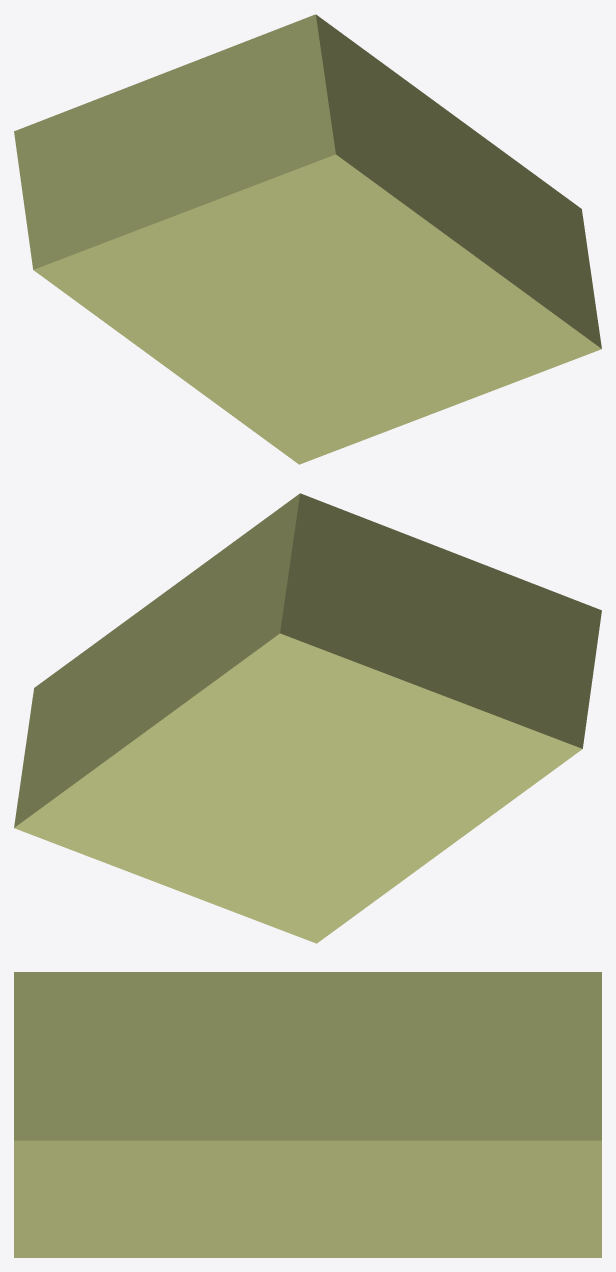
3 renders of one model, top to bottom at view 1: azimuth 30°, elevation 25°; view 2: azimuth 150°, elevation 25°; view 3: azimuth 270°, elevation 25°, orthographic. The views are drawn at different scales.
Parts seen in each view (by area): view 1: 0_1_3_2_1_1_1_3_3_1_2; view 2: 0_1_3_2_1_1_1_3_3_1_2; view 3: 0_1_3_2_1_1_1_3_3_1_2.
Boxes of the visible parts, bbox=[...] form: 0_1_3_2_1_1_1_3_3_1_2: bbox=[14, 14, 601, 464]; 0_1_3_2_1_1_1_3_3_1_2: bbox=[14, 493, 601, 943]; 0_1_3_2_1_1_1_3_3_1_2: bbox=[14, 972, 601, 1257].
Size of the model in its own units: 6.29 by 3.49 by 9.
